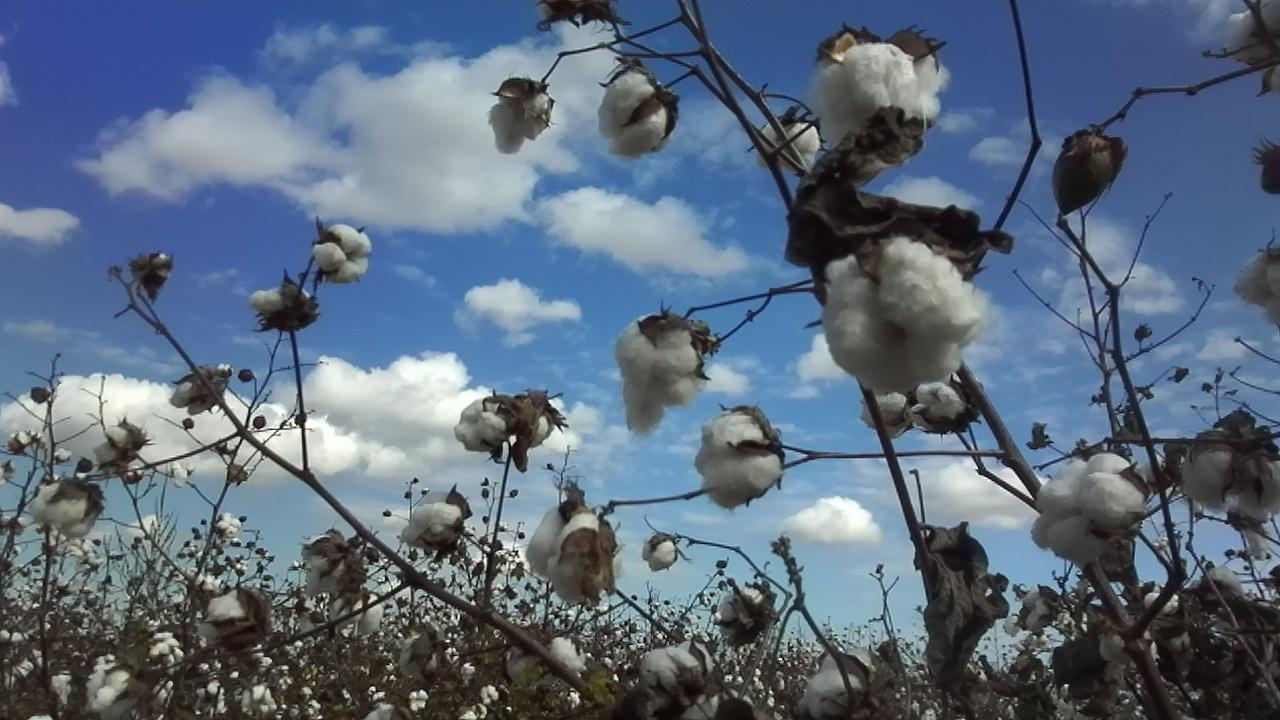cotton_ready: (826, 238, 985, 394), (813, 38, 952, 144), (1032, 453, 1142, 565), (616, 314, 705, 439), (528, 505, 617, 609), (696, 410, 785, 510), (1180, 442, 1280, 520), (629, 637, 720, 720), (597, 68, 672, 157), (798, 644, 885, 720), (489, 89, 552, 155), (29, 479, 97, 539), (300, 533, 362, 597), (1234, 250, 1280, 334), (200, 589, 259, 652), (313, 225, 374, 284), (717, 585, 777, 644), (1227, 0, 1280, 65), (754, 123, 820, 175), (401, 495, 460, 550), (910, 381, 972, 432), (455, 397, 507, 447), (859, 385, 916, 430), (507, 399, 554, 449), (329, 591, 380, 635), (92, 424, 134, 474), (248, 286, 307, 320), (171, 375, 217, 415)
